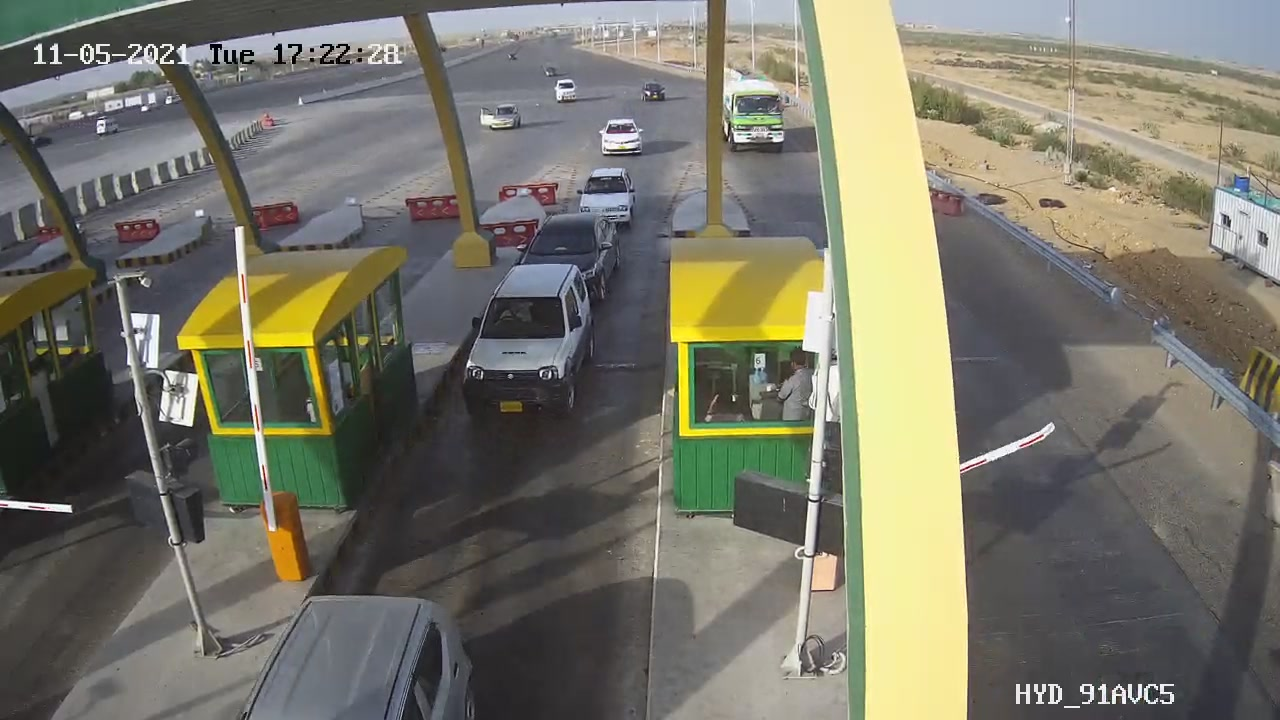F1: (439, 247, 625, 442)
